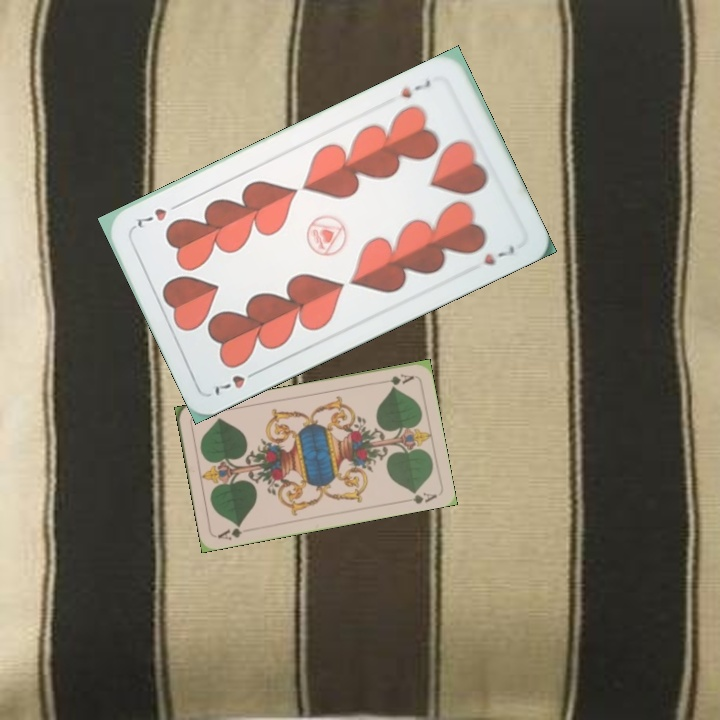GA: (214, 520, 245, 542), (386, 370, 416, 389)
H7: (209, 365, 263, 398), (397, 75, 433, 101)
